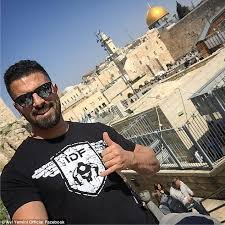middle_eastern_male: (9, 71, 59, 123)
